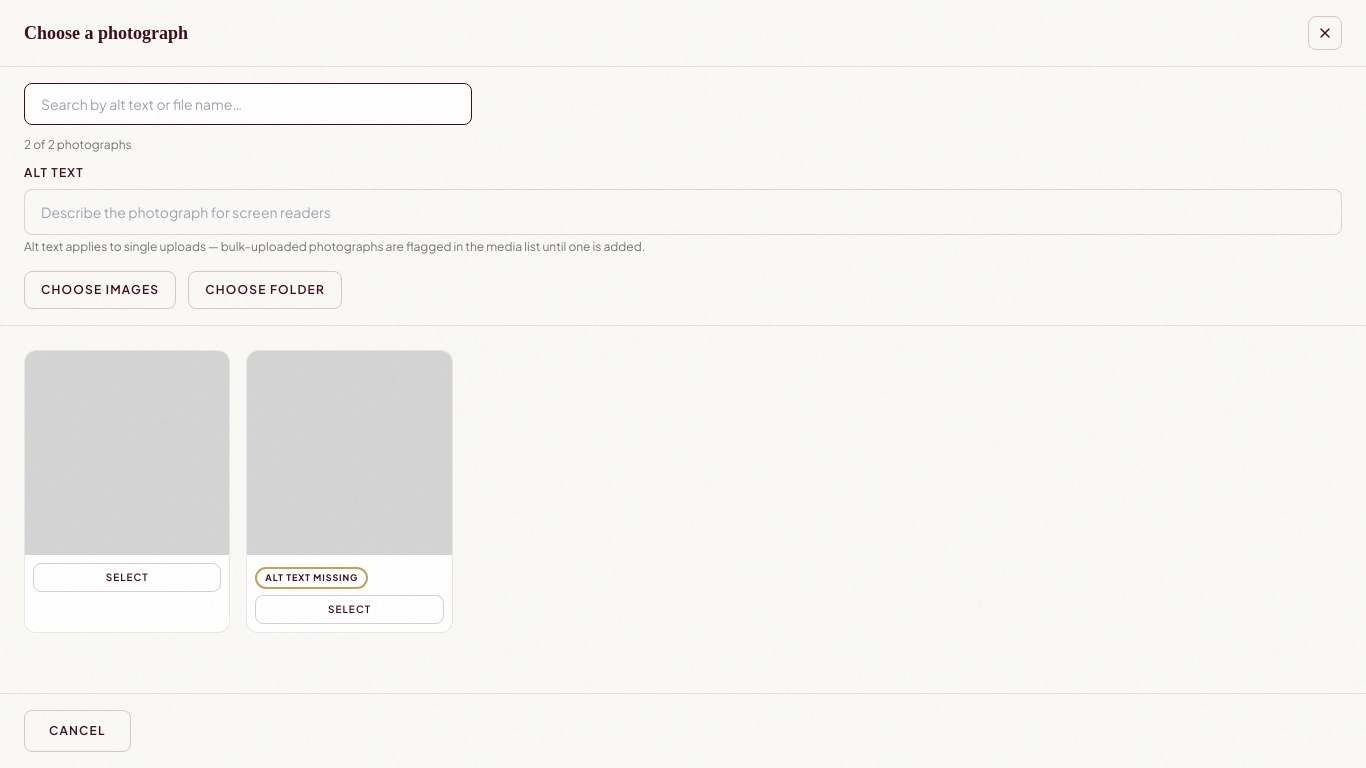
MediaPickerDialog › filters by alt text as you type, with a live count
The image size is (1366, 768).
Type "sunset" into the search field. click: (248, 104)
box: [24,83,472,125]
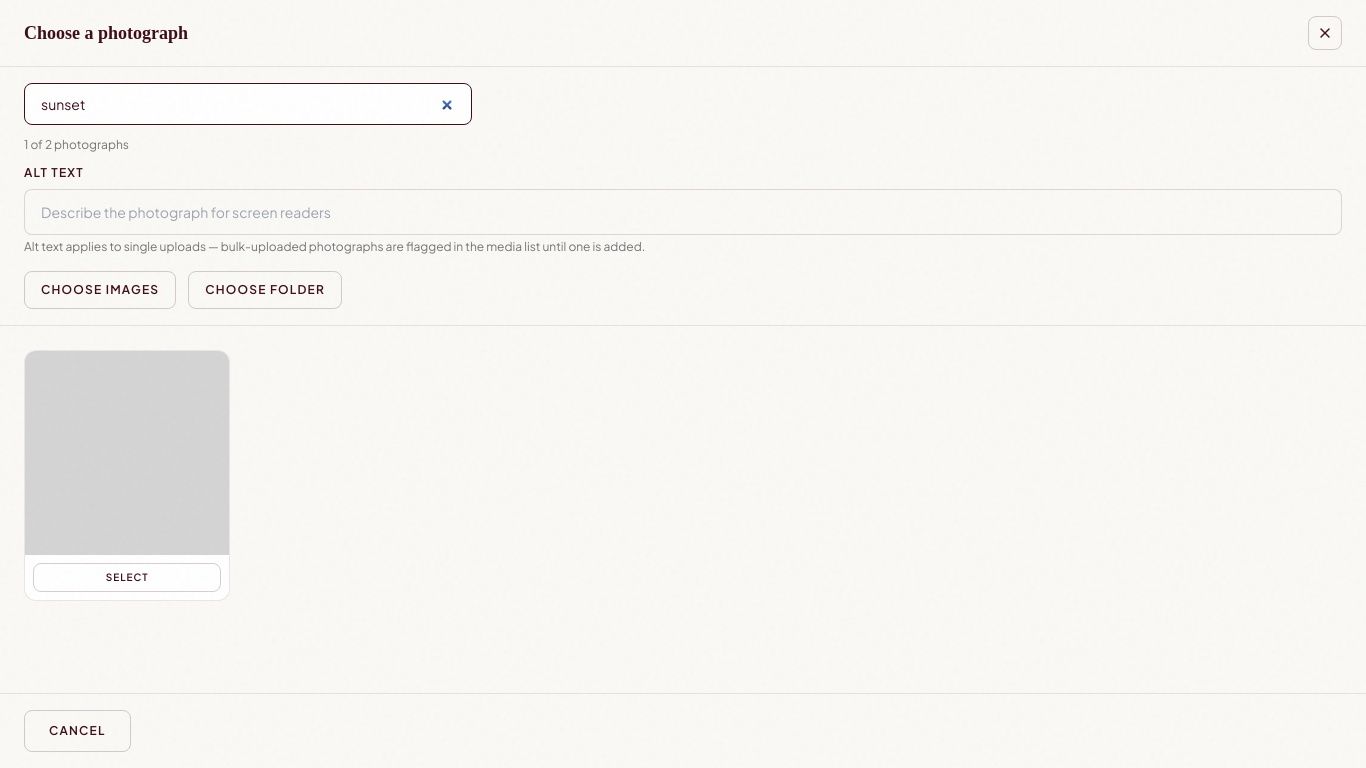
Result: the text "1 of 2 photographs" is shown at [24,137,129,152]
